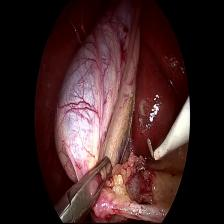Grasper: (53, 148, 117, 224)
Hook: (142, 94, 189, 172)
